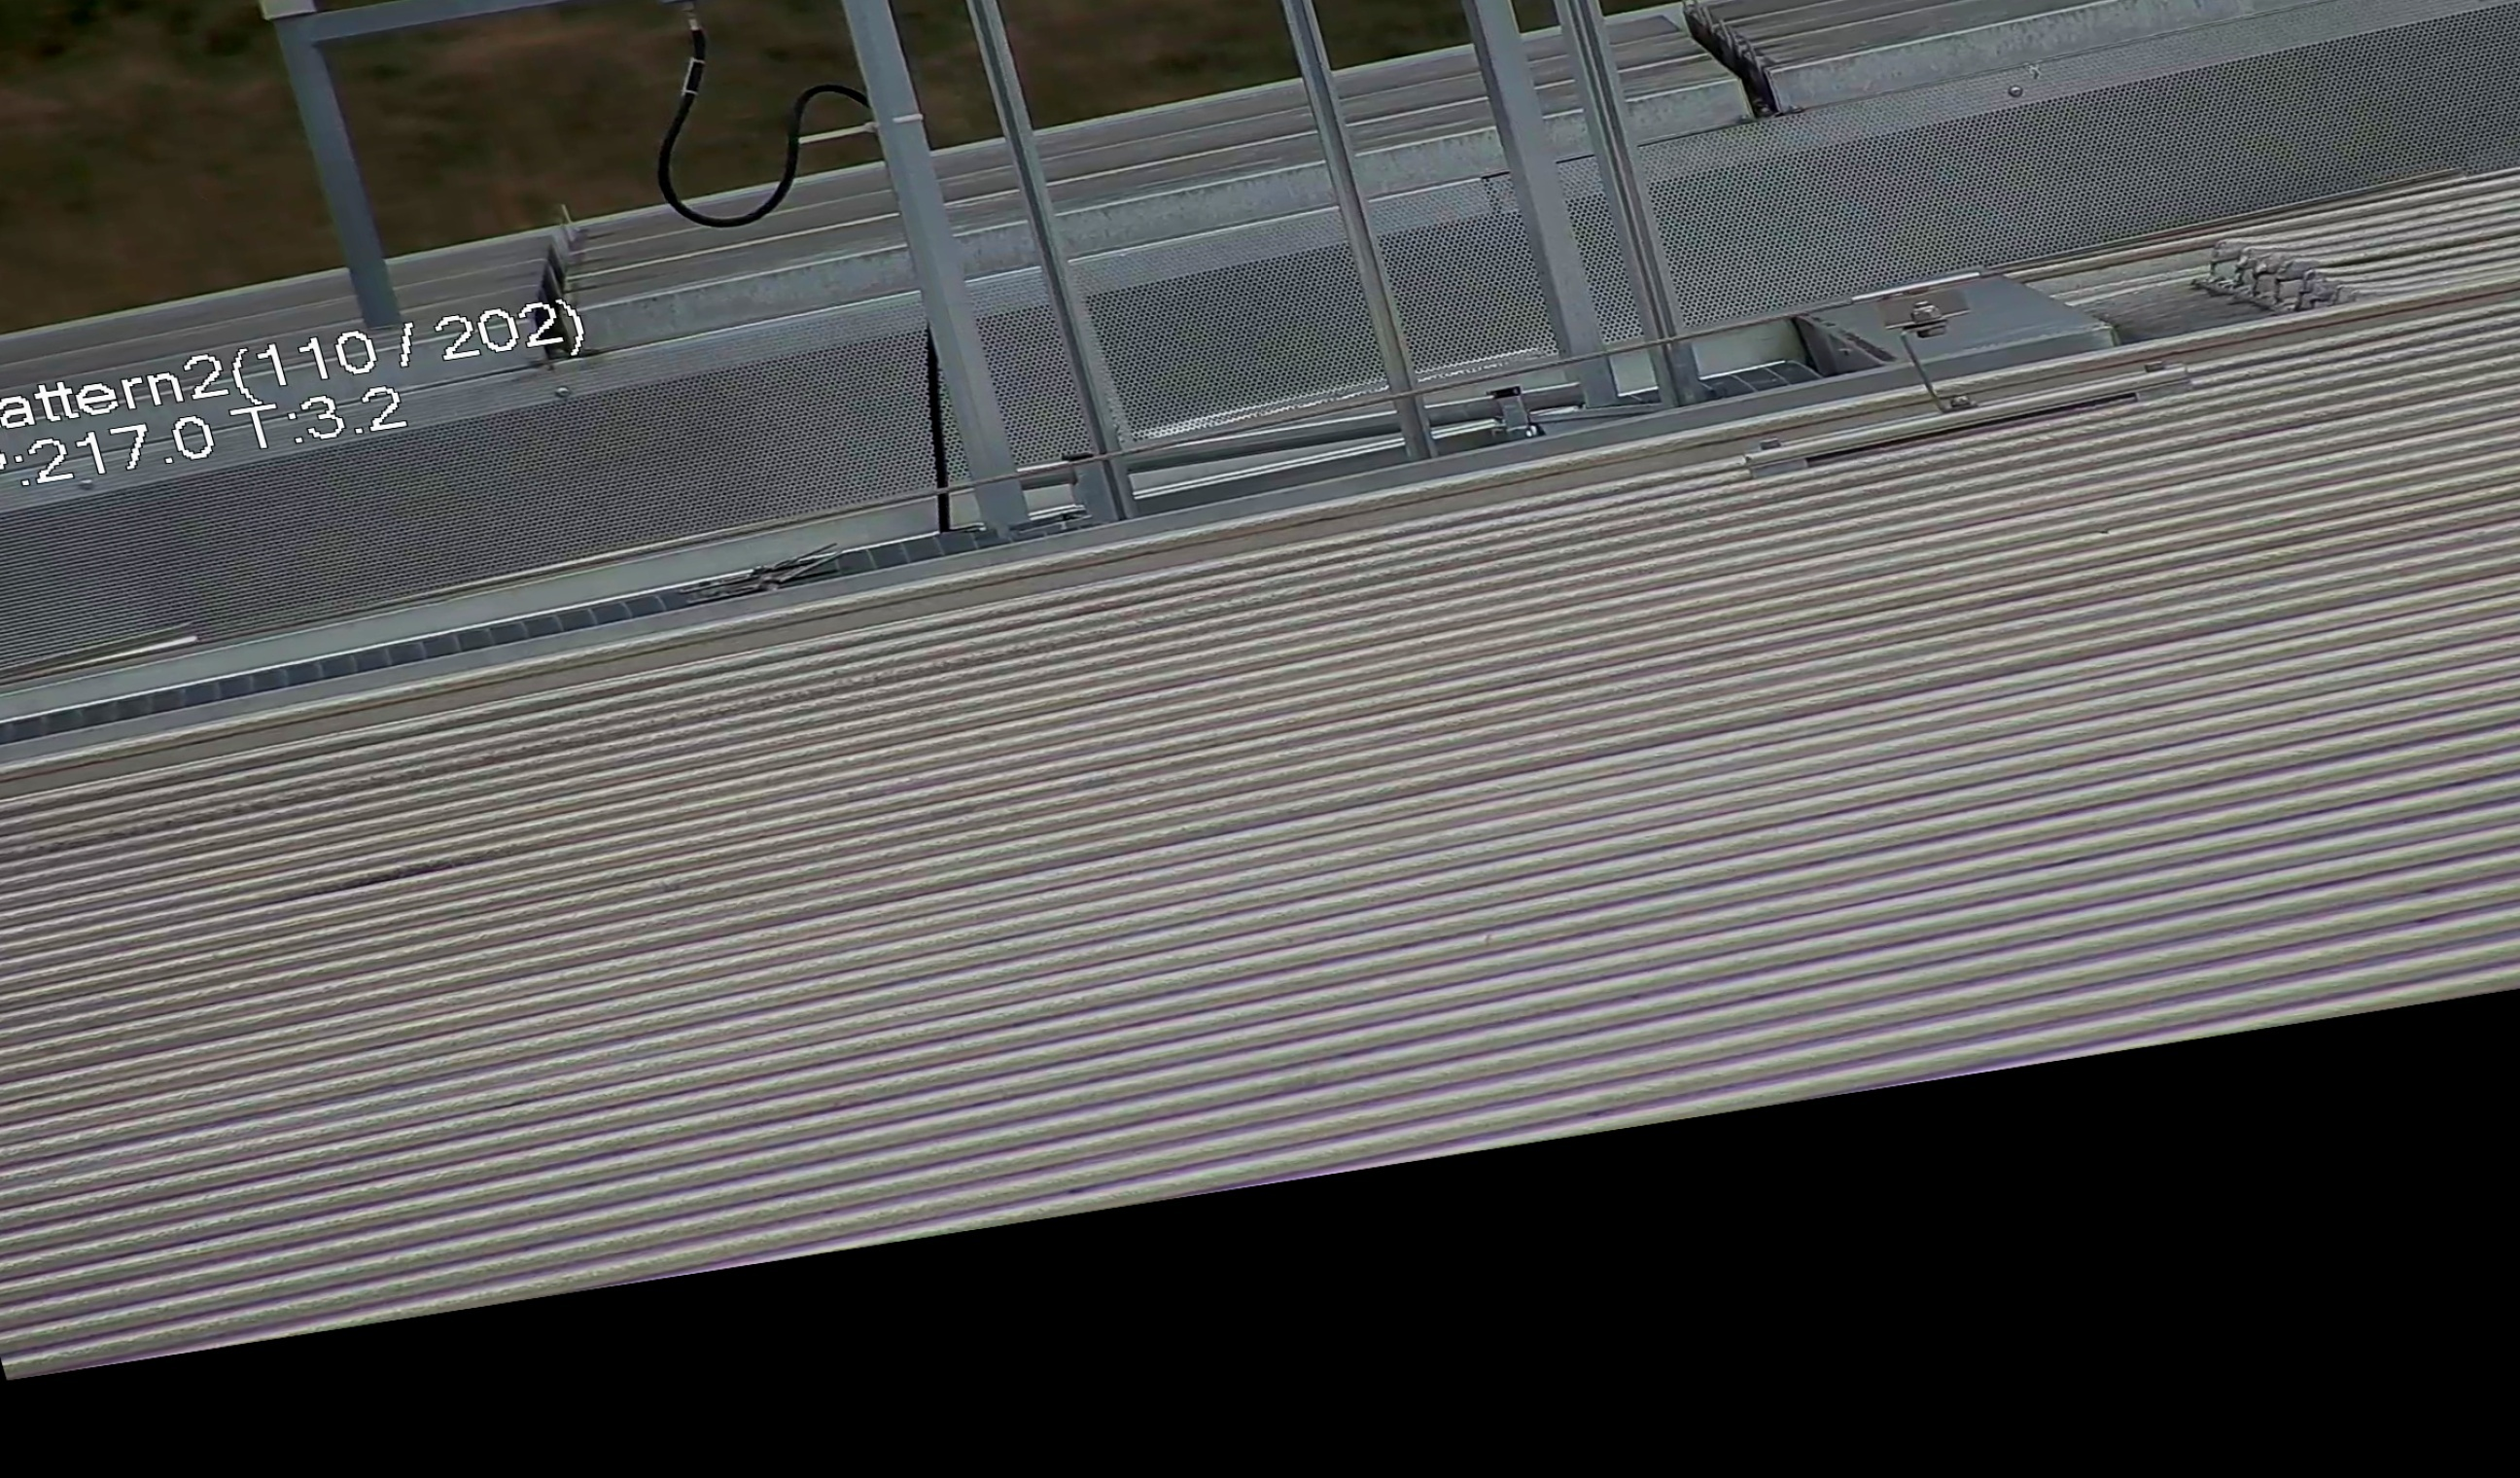Other: (1634, 0, 1815, 135)
